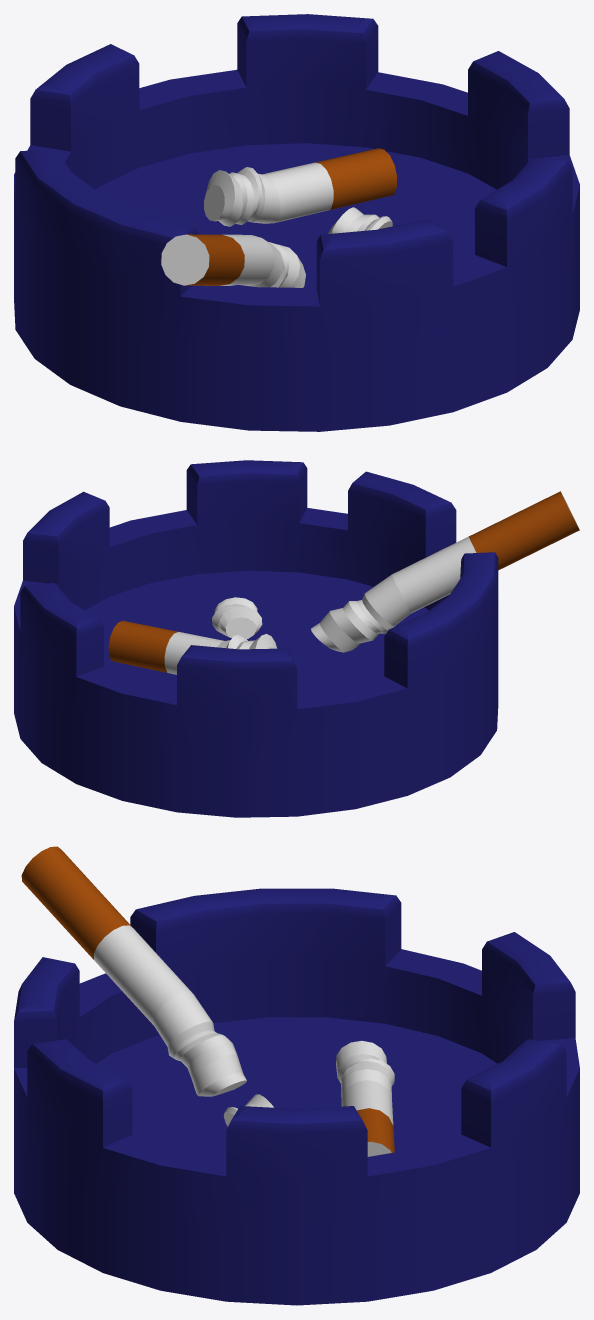
Rendered from SM_Cendrier.fbx.
3 views of the same model, one above another, from view 1: azimuth 30°, elevation 25°; view 2: azimuth 150°, elevation 25°; view 3: azimuth 270°, elevation 25° (orthographic). The views are drawn at different scales.
Parts seen in each view (by area): view 1: pCylinder5; view 2: pCylinder5; view 3: pCylinder5.
Part boxes in pixels (x1,y1,x2,y2): pCylinder5: (14, 14, 579, 431); pCylinder5: (14, 460, 579, 817); pCylinder5: (14, 846, 579, 1305).
Size of the model in its own units: 56.14 by 24.14 by 55.04.
